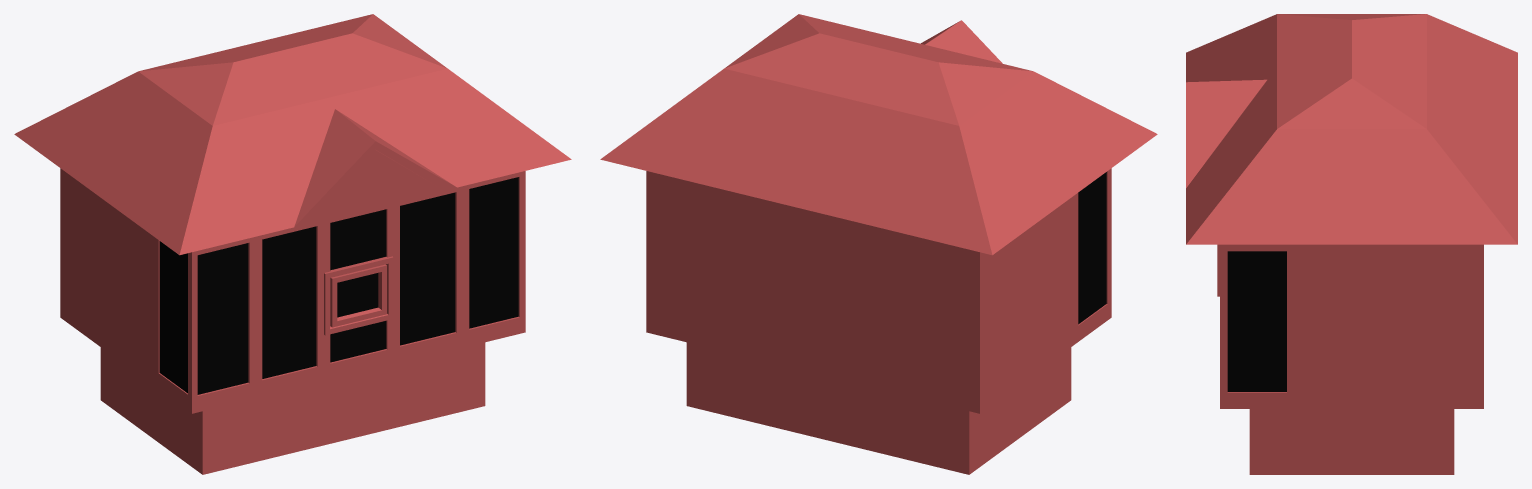
File: SM_shop_4.fbx
The picture shows the model from 3 angles, left to right: view 1: azimuth 30°, elevation 25°; view 2: azimuth 150°, elevation 25°; view 3: azimuth 270°, elevation 25°; orthographic projection.
Visible parts, largest first — view 1: Cube_17; view 2: Cube_17; view 3: Cube_17.
Boxes of the visible parts, x1,y1,x2,y2 form: Cube_17: [14, 14, 571, 474]; Cube_17: [600, 14, 1157, 474]; Cube_17: [1186, 14, 1517, 474].
Bounding box in the file's own units: 392 × 339 × 286.
